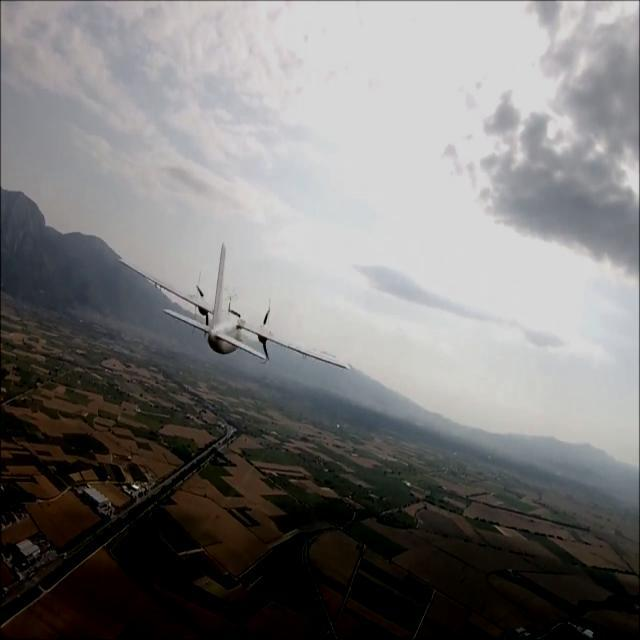iha: (153, 232, 348, 398)
